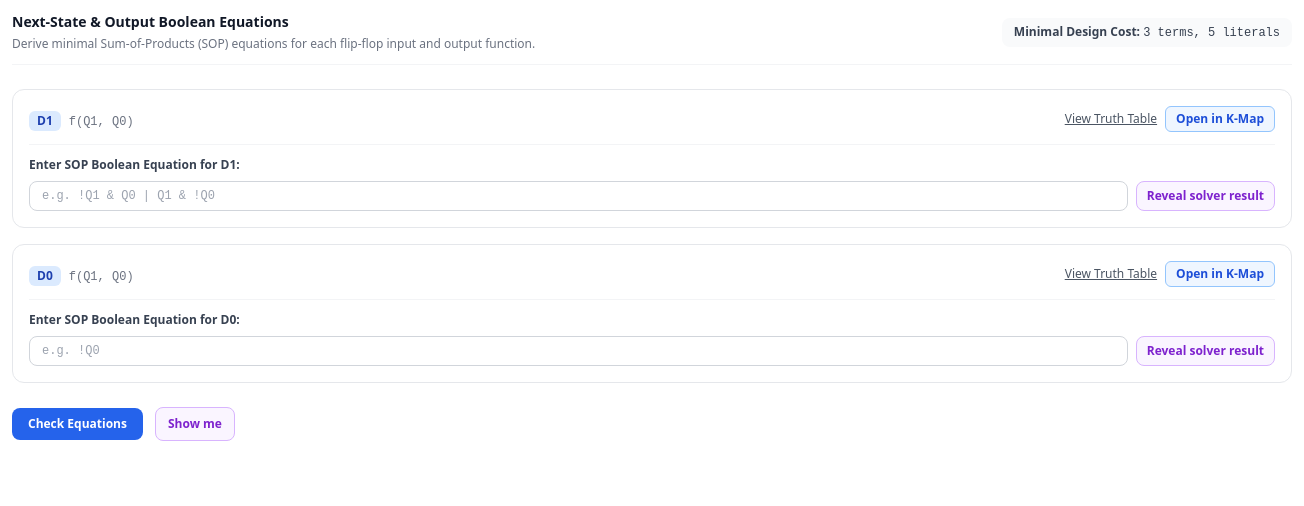
Test: InputEquations component › passes minimal Boolean equation and accepts non-minimal with note
# Minimal equation for D0 is "!Q0"
In the field labelled "Enter SOP Boolean Equation for D0:": (578, 351) [29,336,1128,366], type "!Q0"
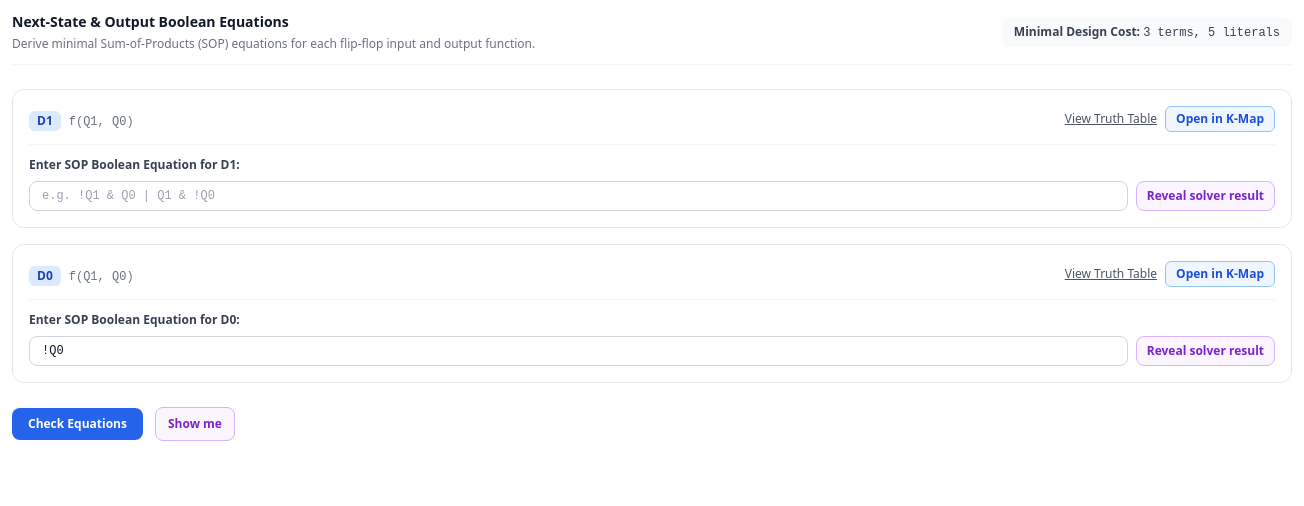
Replace the text in the field labelled "Enter SOP Boolean Equation for D0:" with "!Q0 & Q1 | !Q0 & !Q1": (578, 351) [29,336,1128,366]
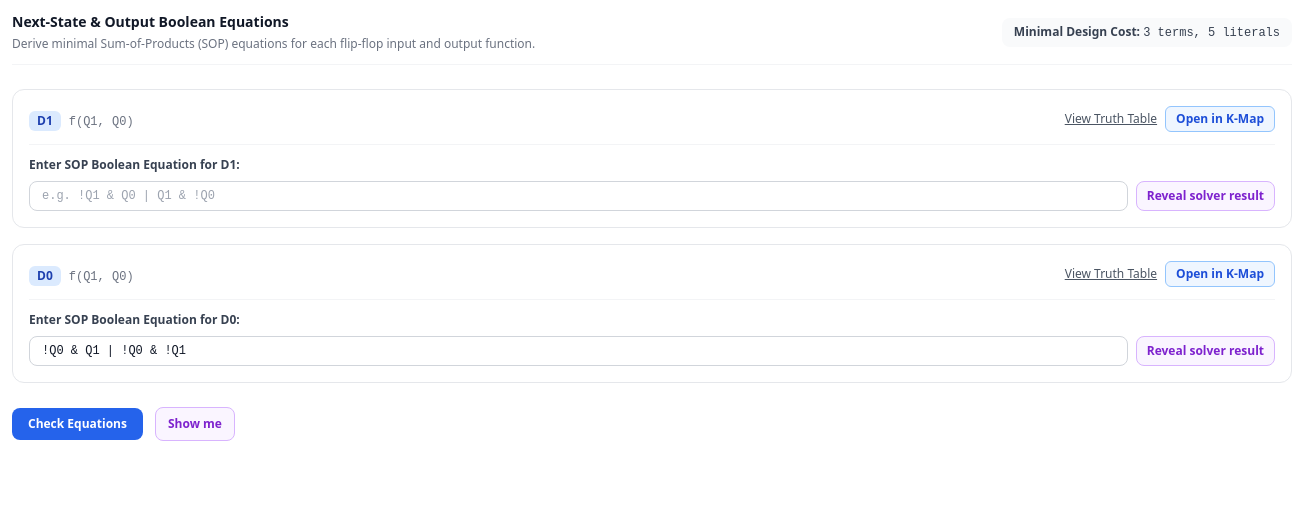
Click the button "Check Equations": (78, 424) [12,408,143,440]
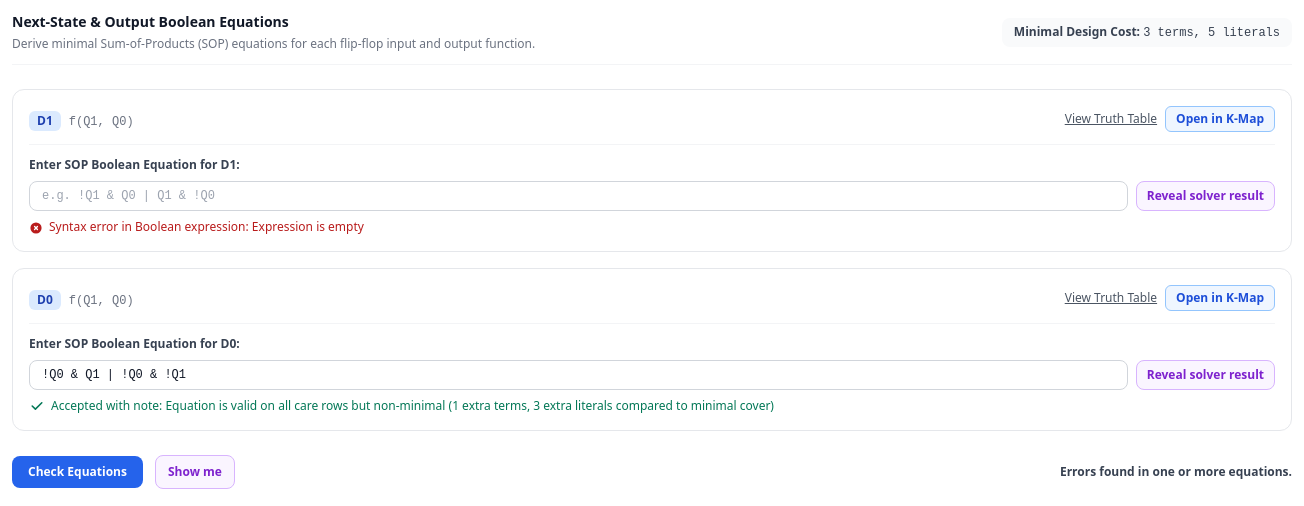
Now the text "Accepted with note" is shown, box [51,397,774,414]
# Now change to minimal !Q0
Replace the text in the field labelled "Enter SOP Boolean Equation for D0:" with "!Q0": (578, 375) [29,360,1128,390]
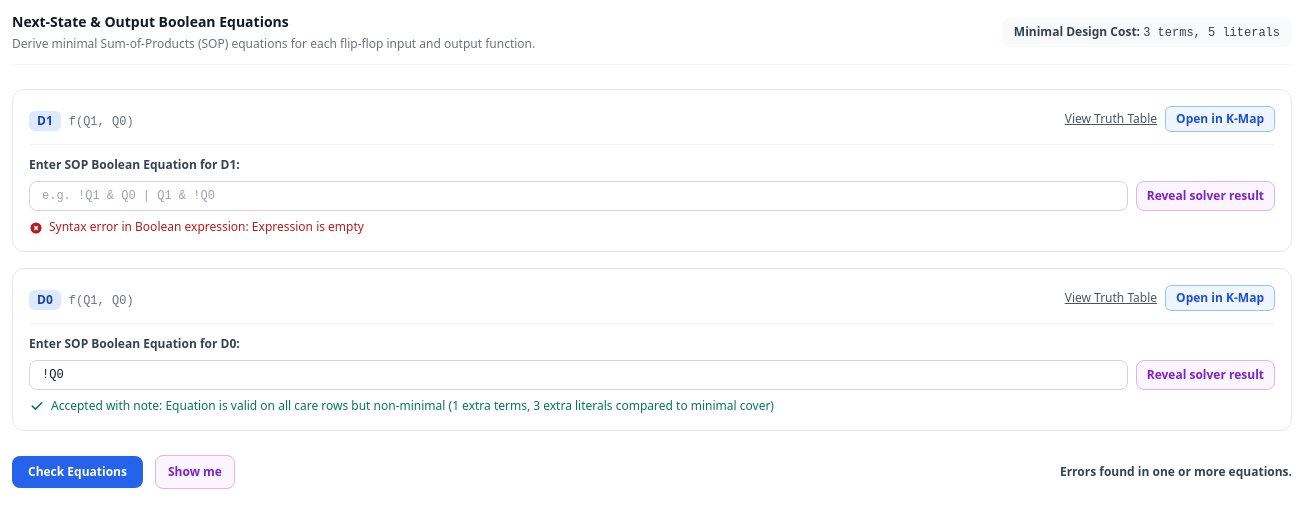
Click the button "Check Equations": (78, 472) [12,456,143,488]
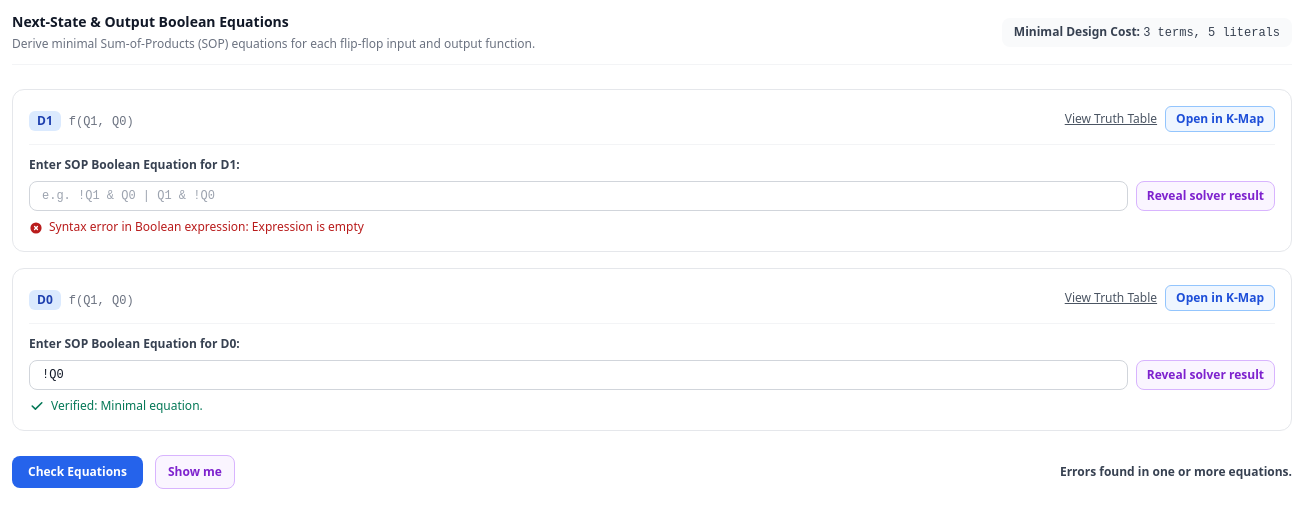
Now the text "Verified: Minimal equation." is shown, box [51,398,203,414]
